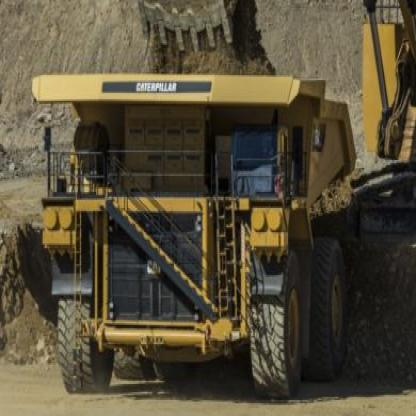dump_truck: (28, 40, 375, 395)
